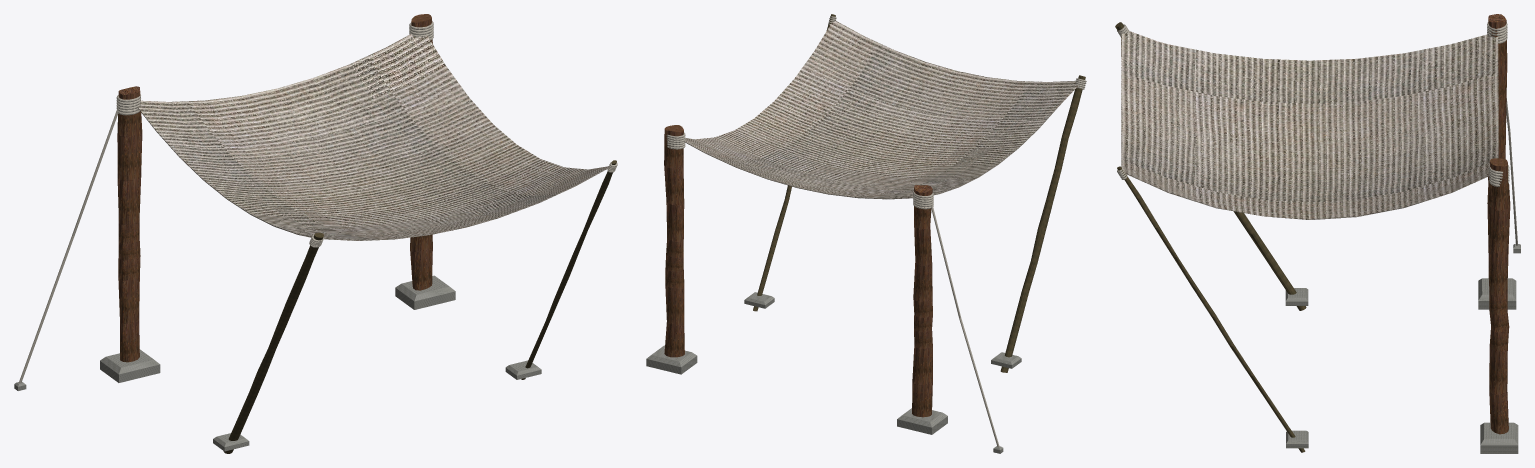
The picture shows the model from 3 angles, left to right: view 1: azimuth 30°, elevation 25°; view 2: azimuth 150°, elevation 25°; view 3: azimuth 270°, elevation 25°; orthographic projection. The views are drawn at different scales.
Visible parts, largest first — view 1: qingmo_obj_041 [6681330], qingmo_obj_043 [6681336], qingmo_obj_042 [6681333]; view 2: qingmo_obj_041 [6681330], qingmo_obj_043 [6681336], qingmo_obj_042 [6681333]; view 3: qingmo_obj_041 [6681330], qingmo_obj_043 [6681336], qingmo_obj_042 [6681333].
Boxes of the visible parts, bbox=[...] form: qingmo_obj_041 [6681330]: bbox=[14, 21, 617, 451]; qingmo_obj_043 [6681336]: bbox=[117, 14, 432, 362]; qingmo_obj_042 [6681333]: bbox=[223, 160, 616, 453]; qingmo_obj_041 [6681330]: bbox=[646, 16, 1086, 453]; qingmo_obj_043 [6681336]: bbox=[664, 125, 932, 417]; qingmo_obj_042 [6681333]: bbox=[753, 14, 1085, 372]; qingmo_obj_041 [6681330]: bbox=[1117, 22, 1520, 453]; qingmo_obj_043 [6681336]: bbox=[1487, 14, 1510, 434]; qingmo_obj_042 [6681333]: bbox=[1115, 22, 1306, 452].
Bounding box in the file's own units: 44.37 × 37.06 × 29.44.
5 materials, 4 textured.
